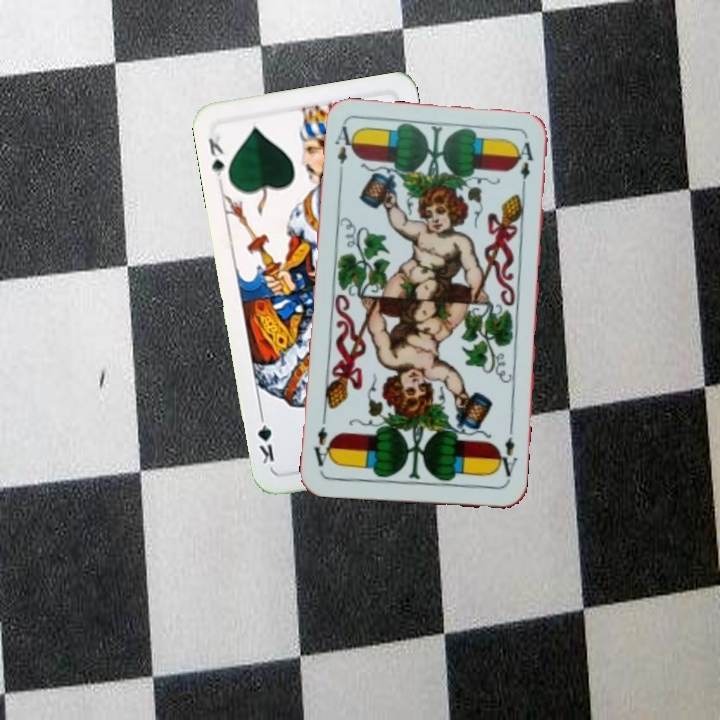EA: (331, 122, 358, 181), (492, 433, 521, 484)
GK: (204, 126, 227, 179)
